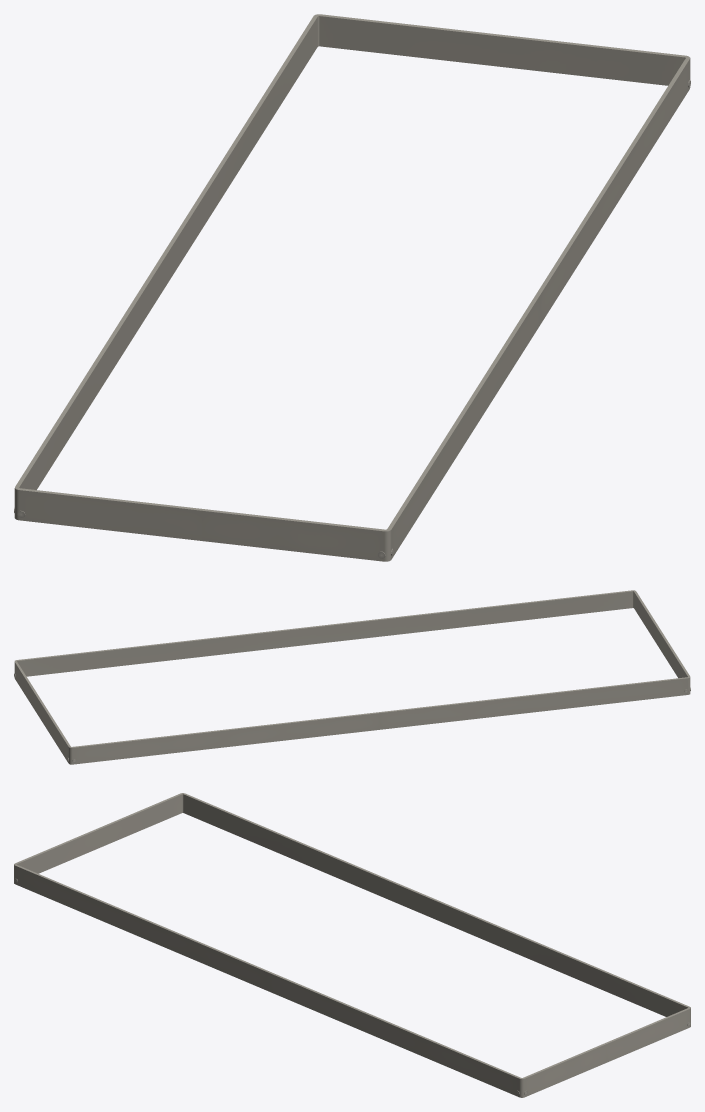
File: bottom_frame_0201_w1200_d400.glb
3 views of the same model, one above another, from view 1: azimuth 30°, elevation 25°; view 2: azimuth 150°, elevation 25°; view 3: azimuth 270°, elevation 25° (orthographic). The views are drawn at different scales.
Parts seen in each view (by area): view 1: bottom_frame_0201_w1200_d400; view 2: bottom_frame_0201_w1200_d400; view 3: bottom_frame_0201_w1200_d400.
Boxes of the visible parts, left/top/right/bottom form: bottom_frame_0201_w1200_d400: left=14, top=14, right=690, bottom=561; bottom_frame_0201_w1200_d400: left=14, top=590, right=690, bottom=764; bottom_frame_0201_w1200_d400: left=14, top=793, right=690, bottom=1097.
Bounding box in the file's own units: 1.12 × 0.0343 × 1.12.
Materials: 1 (1 with a texture image).
